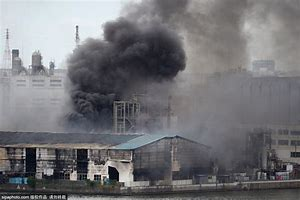smoke: (60, 19, 187, 128)
